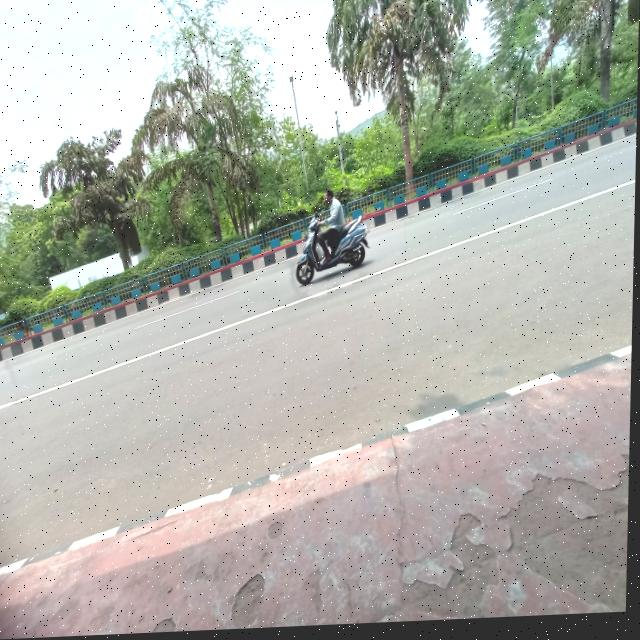bike: (290, 214, 376, 288)
